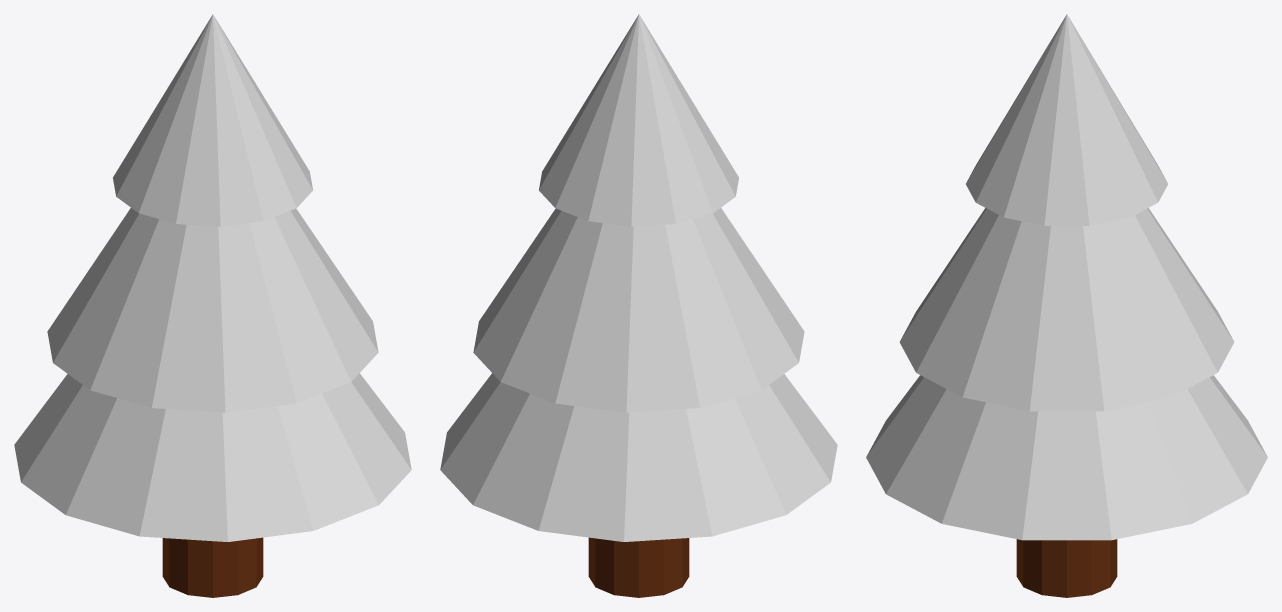
Rendered from pinetree.fbx.
The picture shows the model from 3 angles, left to right: view 1: azimuth 30°, elevation 25°; view 2: azimuth 150°, elevation 25°; view 3: azimuth 270°, elevation 25°; orthographic projection.
Parts seen in each view (by area): view 1: Cone.001, Cone.002, Cone, Cylinder; view 2: Cone.001, Cone.002, Cone, Cylinder; view 3: Cone.001, Cone.002, Cone, Cylinder.
Boxes of the visible parts, left/top/right/bottom form: Cone.001: left=47, top=208, right=378, bottom=412; Cone.002: left=14, top=373, right=411, bottom=541; Cone: left=113, top=14, right=312, bottom=226; Cylinder: left=162, top=537, right=263, bottom=597; Cone.001: left=473, top=208, right=804, bottom=412; Cone.002: left=440, top=373, right=837, bottom=541; Cone: left=539, top=14, right=738, bottom=226; Cylinder: left=588, top=537, right=689, bottom=597; Cone.001: left=899, top=208, right=1234, bottom=411; Cone.002: left=866, top=375, right=1267, bottom=540; Cone: left=966, top=14, right=1167, bottom=225; Cylinder: left=1016, top=539, right=1117, bottom=597.
Bounding box in the file's own units: 468 × 742 × 480.
